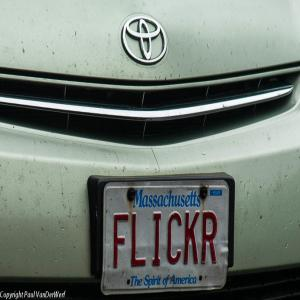Vehicle-registration-plate: (101, 180, 230, 297)
